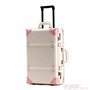suitcase: (24, 5, 69, 90)
